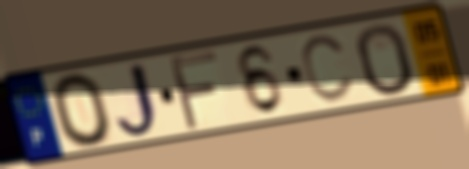6: (236, 43, 285, 117)
C: (298, 31, 357, 106)
F: (165, 49, 222, 135)
J: (112, 59, 166, 141)
O: (48, 70, 116, 150), (353, 22, 419, 99)
